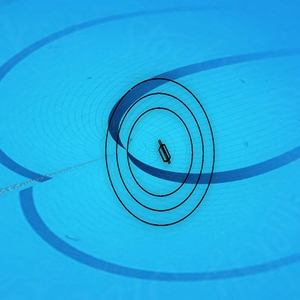circle: (101, 72, 222, 232)
submarine: (157, 142, 172, 163)
